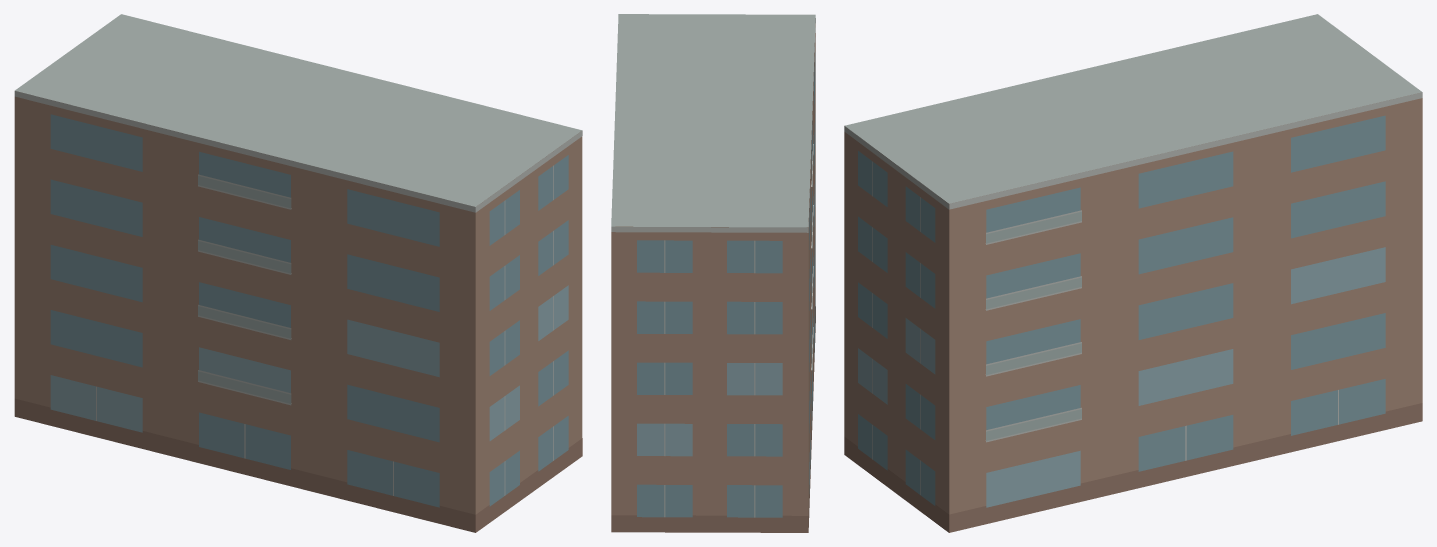
File: survey-upis-32722784.glb
3 views of the same model, side by side, from view 1: azimuth 30°, elevation 25°; view 2: azimuth 150°, elevation 25°; view 3: azimuth 270°, elevation 25° (orthographic). The views are drawn at different scales.
Parts seen in each view (by area): view 1: survey-upis-32722784.tmp; view 2: survey-upis-32722784.tmp; view 3: survey-upis-32722784.tmp.
Boxes of the visible parts, x1,y1,x2,y2 form: survey-upis-32722784.tmp: (14, 14, 582, 532); survey-upis-32722784.tmp: (611, 14, 815, 532); survey-upis-32722784.tmp: (844, 14, 1422, 532).
Size of the model in its own units: 17.02 by 13.75 by 21.91.
